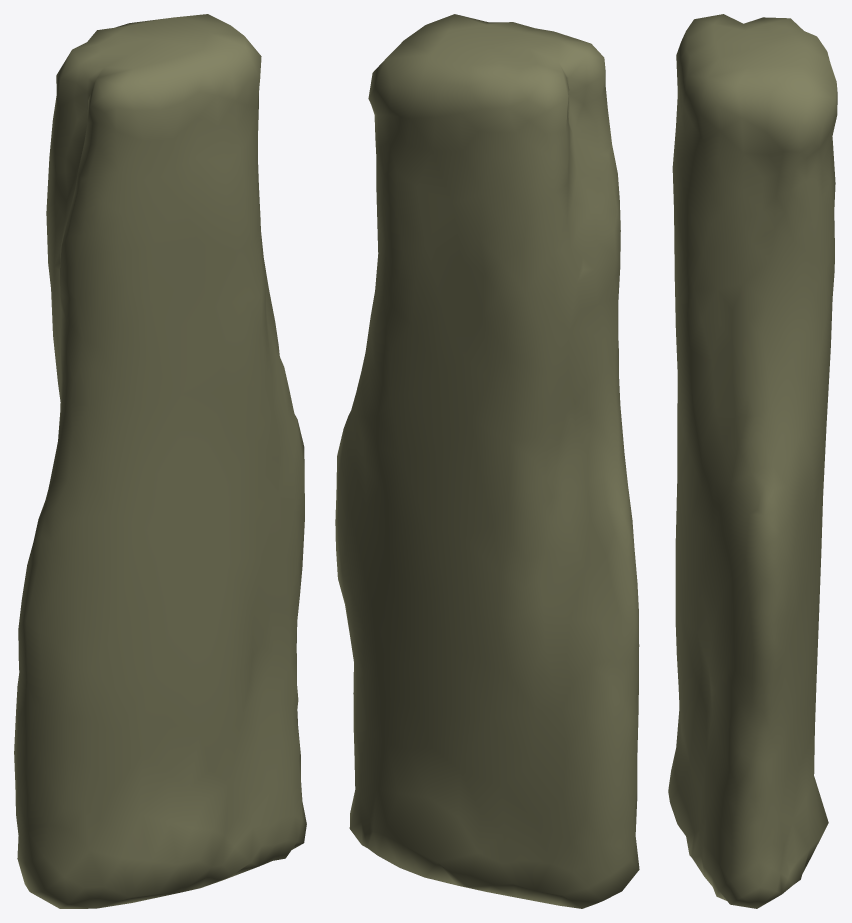
Rendered from RockPillar04.fbx.
3 views of the same model, side by side, from view 1: azimuth 30°, elevation 25°; view 2: azimuth 150°, elevation 25°; view 3: azimuth 270°, elevation 25° (orthographic). The views are drawn at different scales.
Visible parts, largest first — view 1: RockPillar04; view 2: RockPillar04; view 3: RockPillar04.
Part boxes in pixels (x1,y1,x2,y2): RockPillar04: (14,14,306,908); RockPillar04: (335,14,639,908); RockPillar04: (668,14,837,908).
Bounding box in the file's own units: 0.7226 × 1.98 × 0.376.
